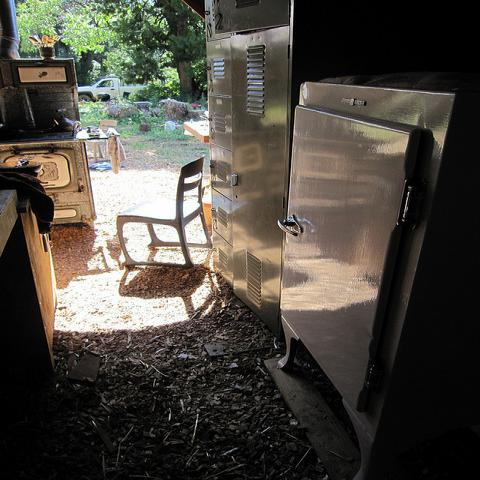truck: (79, 77, 144, 104)
